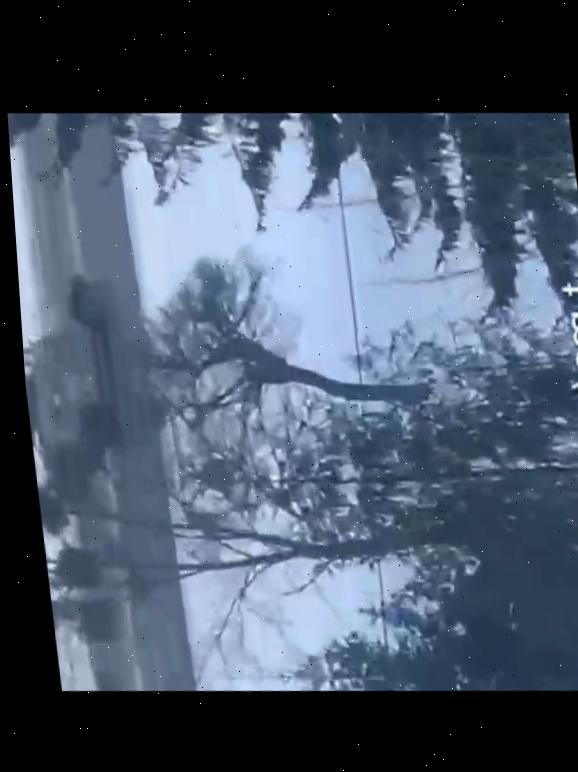armored_car: (18, 270, 131, 478)
